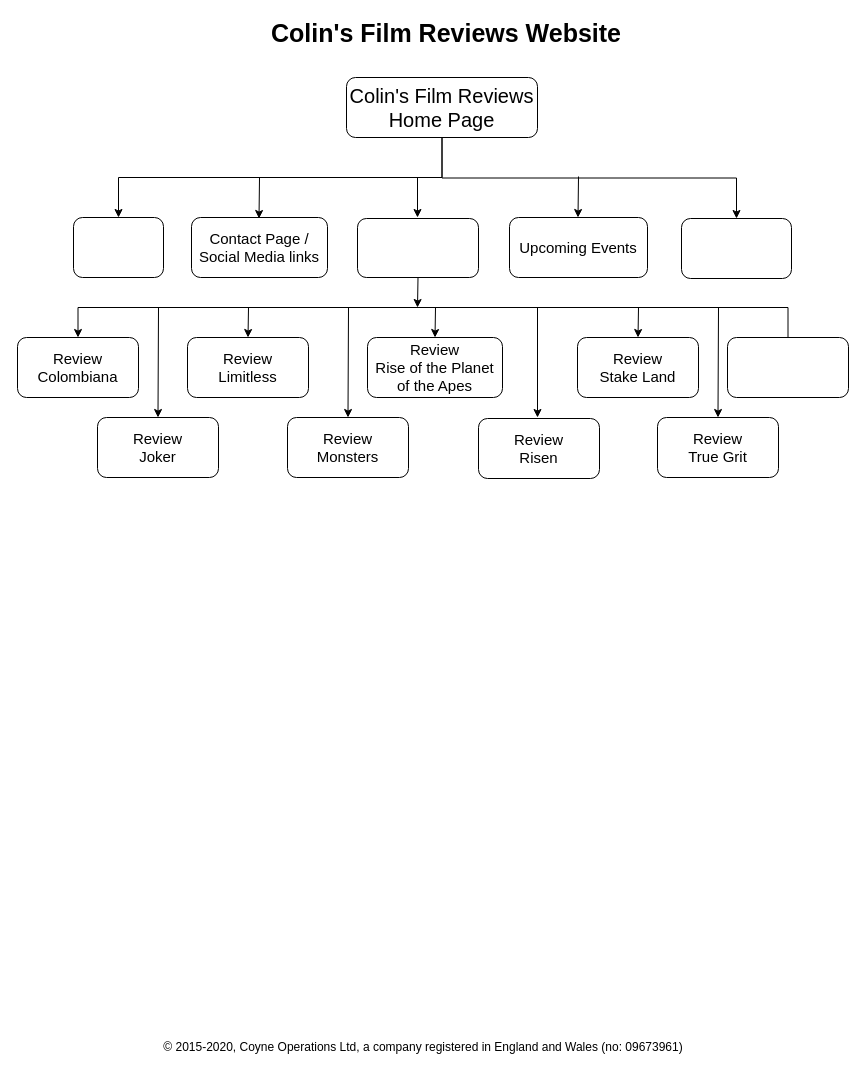
Image size: 866x1074. Some labels were removed from this diagram. The shapes that lost their labels are listed below. From the top down, each one's box as (x1, y1, x2, y2) in pixels, then its label:
(72, 216, 164, 278): About Page
(356, 218, 478, 278): Film Reviews Blog page
(680, 218, 792, 278): Feedback Page
(726, 336, 848, 398): Review West is West
